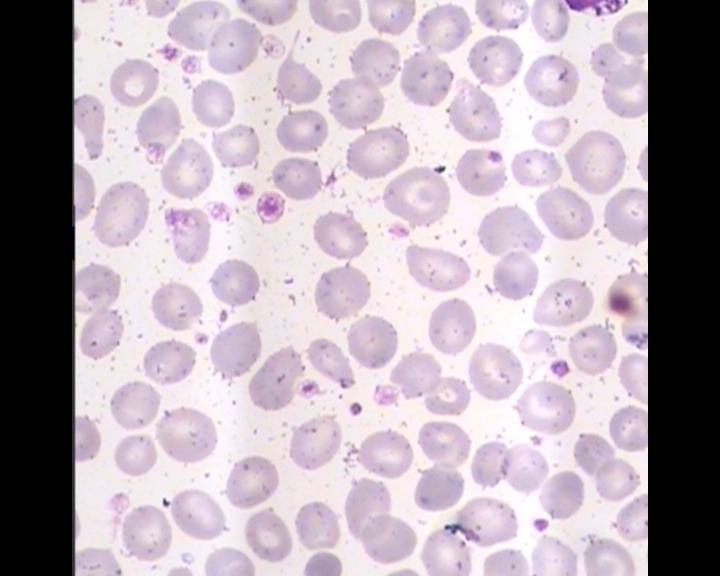baso: (559, 0, 630, 21)
